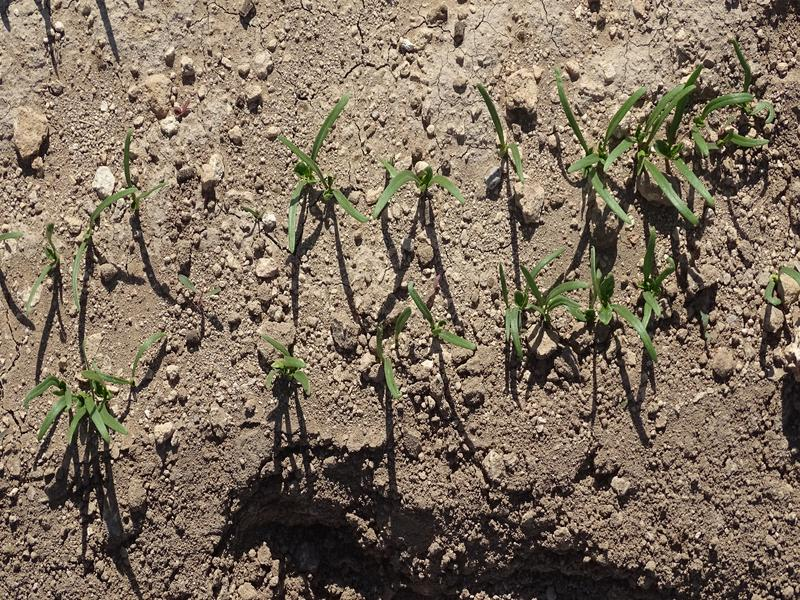Espinaca: (550, 67, 772, 224), (485, 247, 682, 363), (280, 91, 359, 242), (28, 366, 135, 445), (62, 187, 131, 303), (477, 81, 532, 176), (374, 165, 476, 216), (400, 281, 466, 350), (255, 334, 309, 399), (26, 216, 57, 301), (381, 356, 401, 398)
